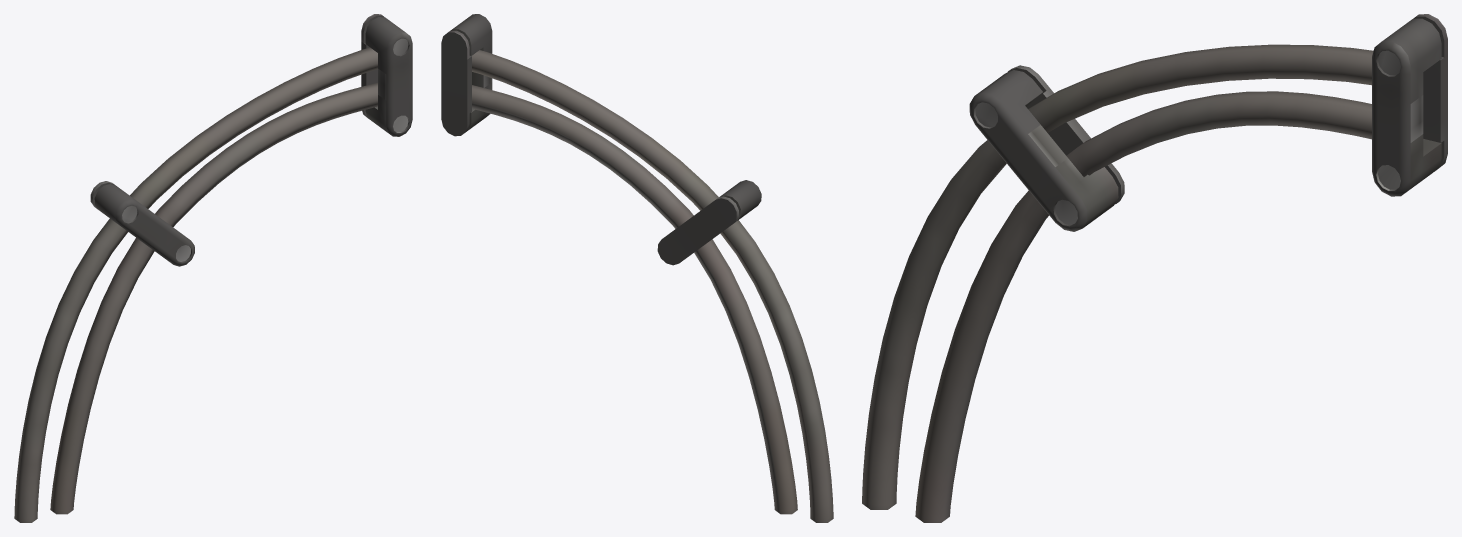
File: wall-cable-bend--7.gltf
3 views of the same model, side by side, from view 1: azimuth 30°, elevation 25°; view 2: azimuth 150°, elevation 25°; view 3: azimuth 330°, elevation 25° (orthographic). The views are drawn at different scales.
Parts seen in each view (by area): view 1: cable_double_turn_long; view 2: cable_double_turn_long; view 3: cable_double_turn_long.
Part boxes in pixels (x1,y1,x2,y2): cable_double_turn_long: [14, 14, 412, 522]; cable_double_turn_long: [441, 14, 833, 522]; cable_double_turn_long: [862, 14, 1447, 522].
Bounding box in the file's own units: 0.212 × 0.2178 × 0.0259.
Materials: 1 (1 with a texture image).
